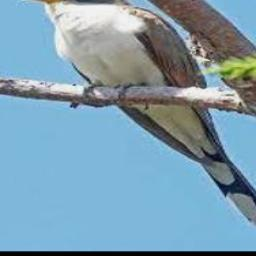Cuckoo: (18, 0, 256, 240)
